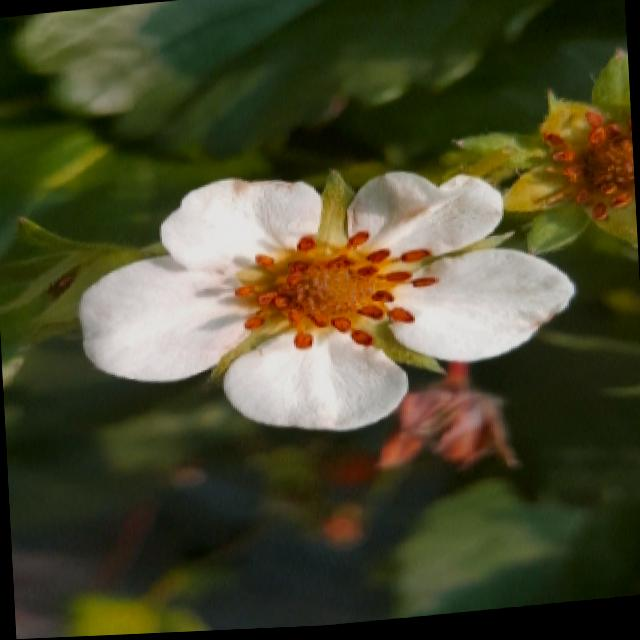Blossom Blight: (227, 226, 443, 360), (529, 110, 636, 231)
